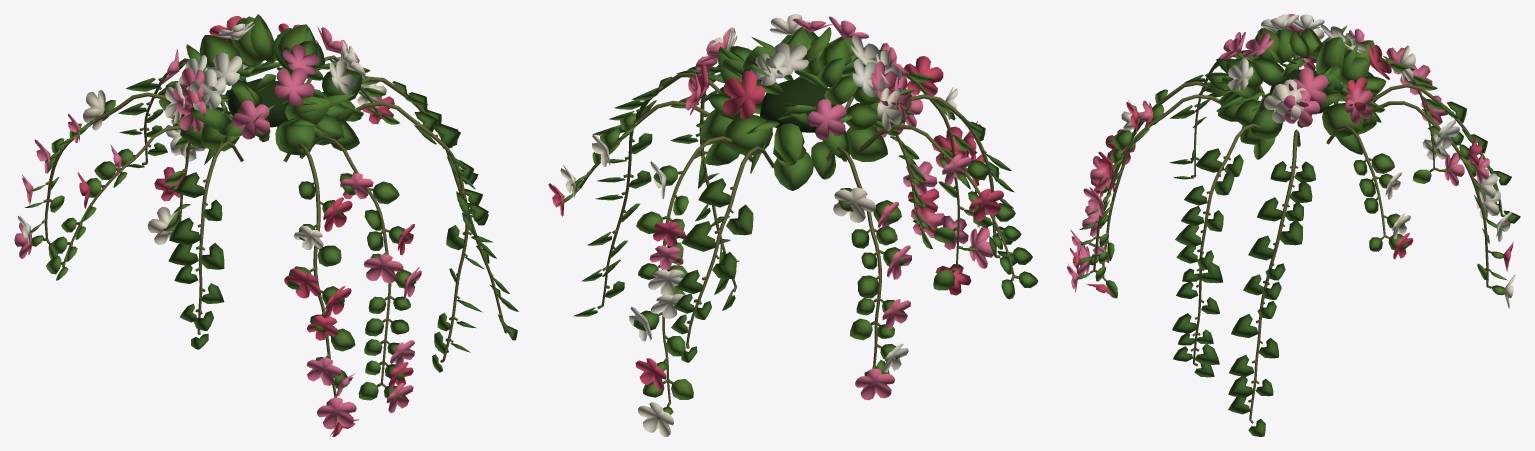
The model's file is basket_trailing_pink.glb.
The picture shows the model from 3 angles, left to right: view 1: azimuth 30°, elevation 25°; view 2: azimuth 150°, elevation 25°; view 3: azimuth 270°, elevation 25°; orthographic projection. The views are drawn at different scales.
Visible parts, largest first — view 1: Sammel Pflanze, Sammel Putz, Sammel Blatt; view 2: Sammel Pflanze, Sammel Putz, Sammel Blatt; view 3: Sammel Pflanze, Sammel Putz.
Part boxes in pixels (left/top/right/bottom): Sammel Pflanze: left=14, top=14, right=518, bottom=436; Sammel Putz: left=41, top=55, right=507, bottom=397; Sammel Blatt: left=228, top=78, right=288, bottom=127; Sammel Pflanze: left=548, top=14, right=1038, bottom=436; Sammel Putz: left=576, top=65, right=1018, bottom=406; Sammel Blatt: left=759, top=78, right=835, bottom=132; Sammel Pflanze: left=1067, top=14, right=1520, bottom=436; Sammel Putz: left=1089, top=55, right=1505, bottom=423.
Bounding box in the file's own units: 0.8011 × 0.5821 × 0.781.
